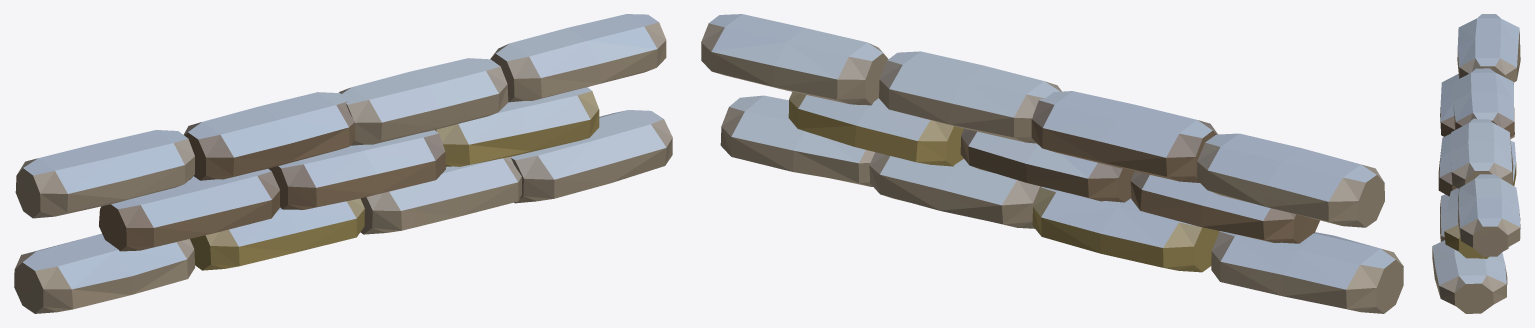
File: sandbag_wall.glb
3 views of the same model, side by side, from view 1: azimuth 30°, elevation 25°; view 2: azimuth 150°, elevation 25°; view 3: azimuth 270°, elevation 25° (orthographic). The views are drawn at different scales.
Parts seen in each view (by area): view 1: Prop; view 2: Prop; view 3: Prop.
Boxes of the visible parts, bbox=[...] form: Prop: bbox=[14, 14, 672, 313]; Prop: bbox=[701, 14, 1403, 313]; Prop: bbox=[1432, 14, 1520, 313].
Bounding box in the file's own units: 2.26 × 0.4499 × 0.3906.
